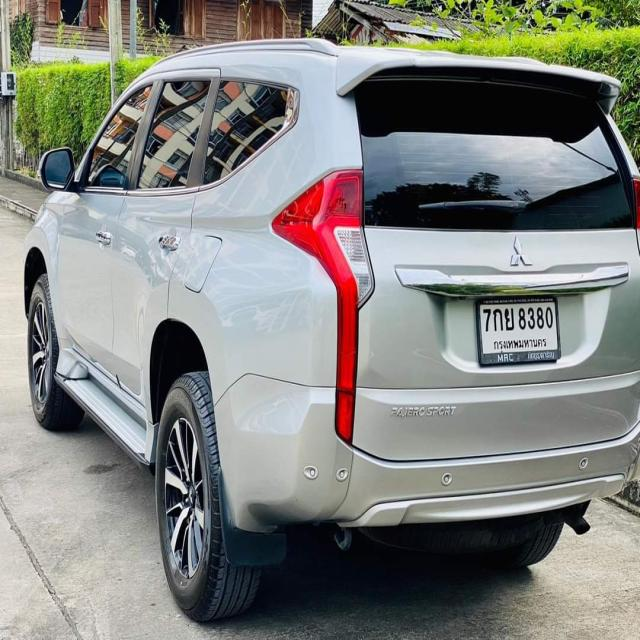license_plate: (474, 292, 562, 364)
